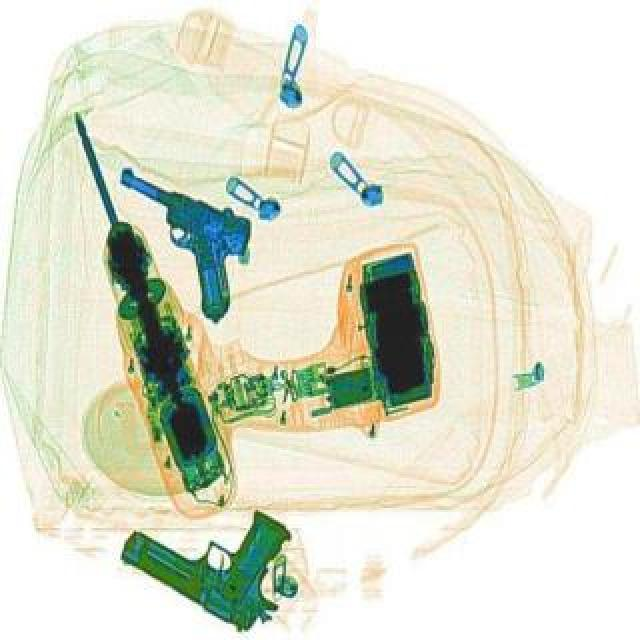gun: (110, 464, 314, 634), (74, 164, 270, 324)
